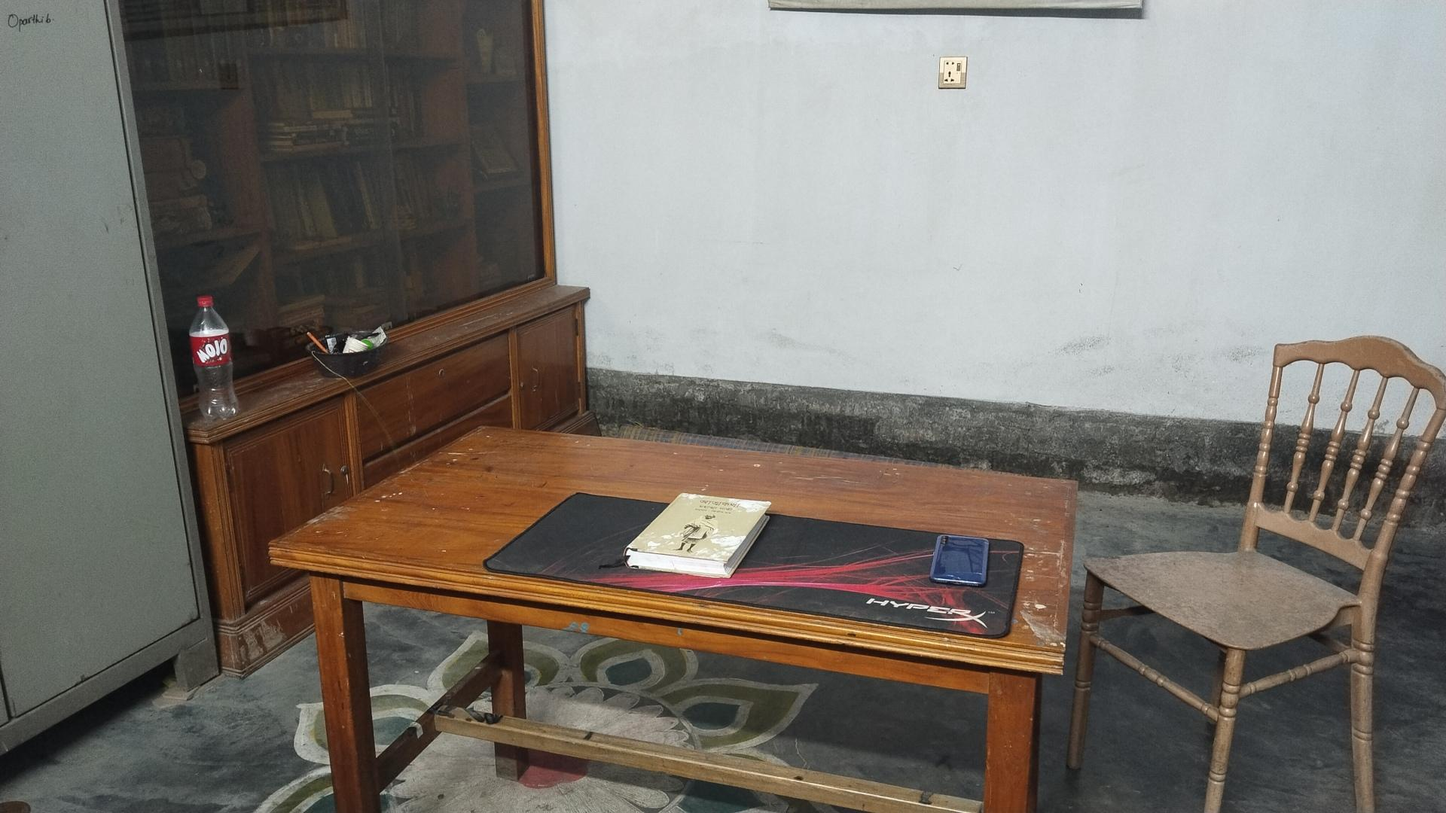Book: (626, 486, 774, 580)
Bottle: (179, 294, 243, 425)
Chair: (1086, 325, 1446, 813)
Phone: (926, 530, 991, 589)
Table: (261, 429, 1078, 813)
